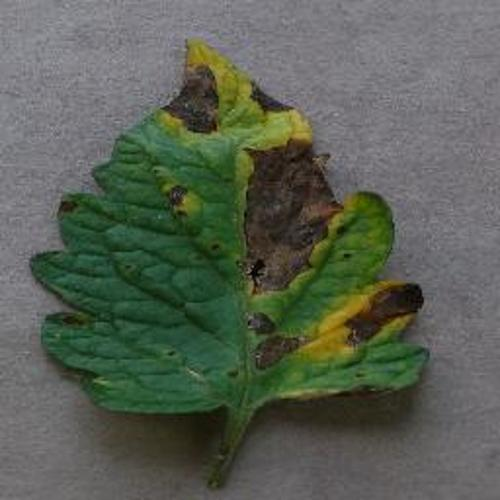Tomato: (33, 40, 430, 489)
